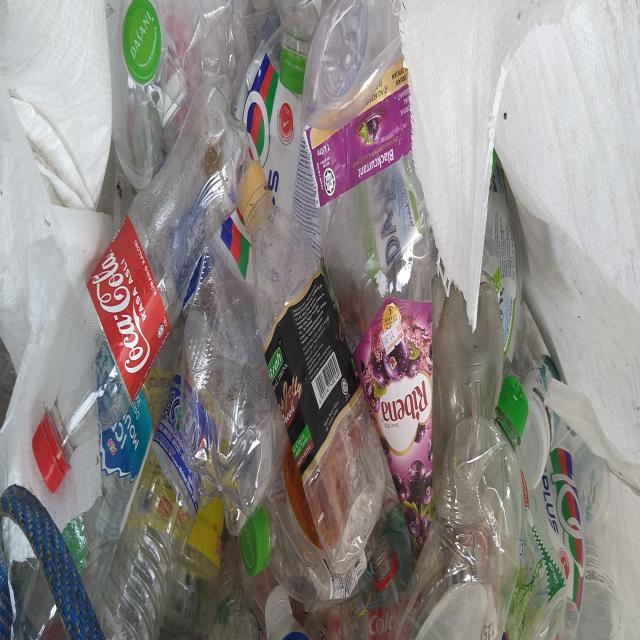plastic: (35, 83, 242, 473), (304, 0, 437, 554), (238, 139, 384, 595), (189, 0, 319, 502), (98, 344, 216, 640), (402, 376, 527, 640), (109, 4, 185, 175)
